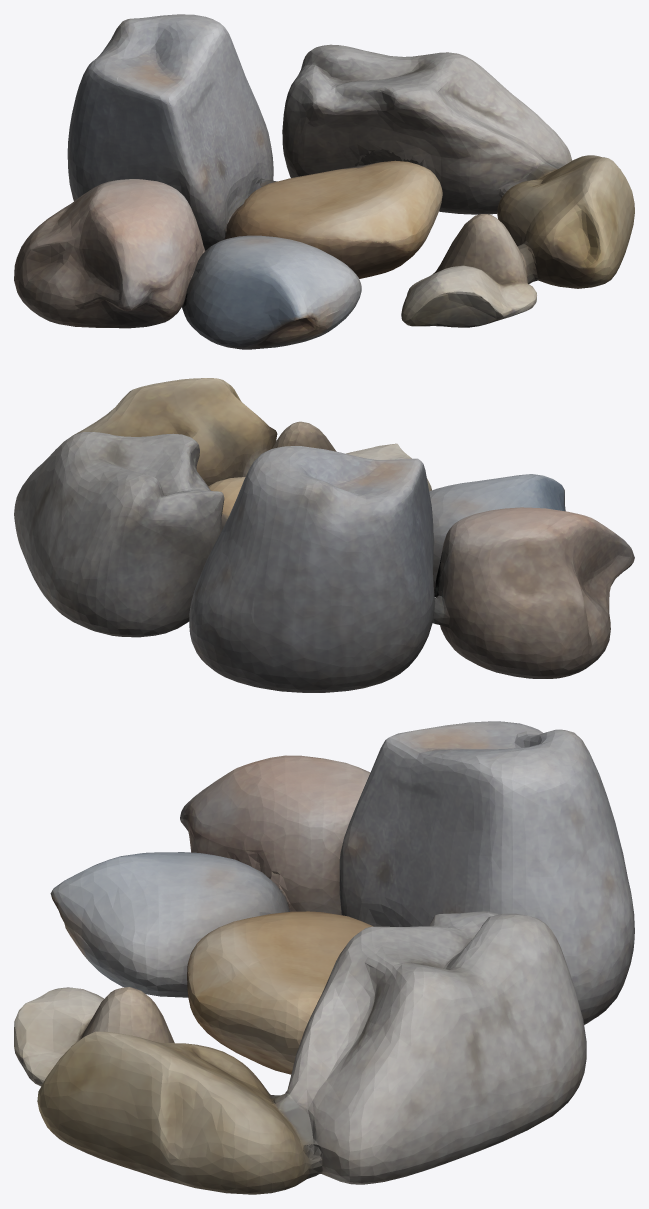
Rendered from group_rocks1.glb.
3 renders of one model, top to bottom at view 1: azimuth 30°, elevation 25°; view 2: azimuth 150°, elevation 25°; view 3: azimuth 270°, elevation 25°, orthographic. The views are drawn at different scales.
Parts seen in each view (by area): view 1: world; view 2: world; view 3: world.
Part boxes in pixels (<box>): world: <box>14,14,634,349</box>; world: <box>14,378,634,692</box>; world: <box>14,721,634,1194</box>.
Size of the model in its own units: 0.9996 by 0.3447 by 0.7636.
1 material, 1 textured.
